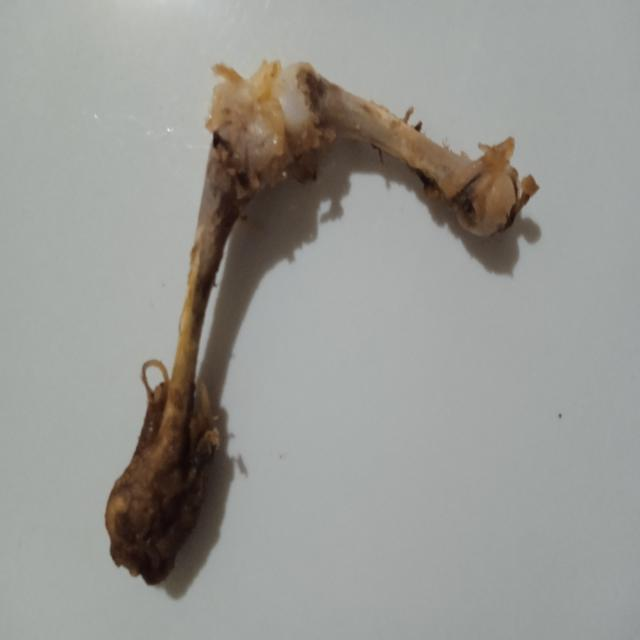bone: (90, 40, 544, 592)
